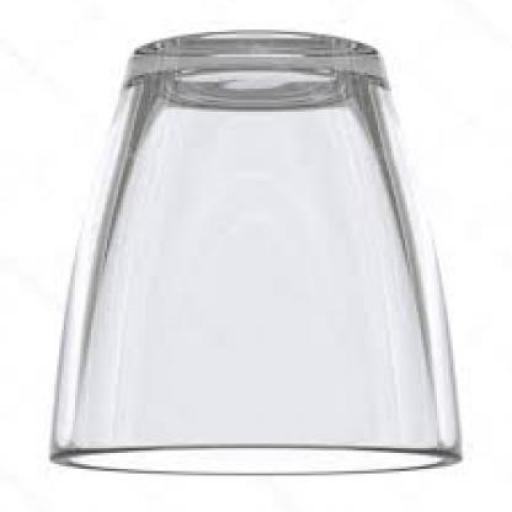glass: (46, 36, 459, 471)
